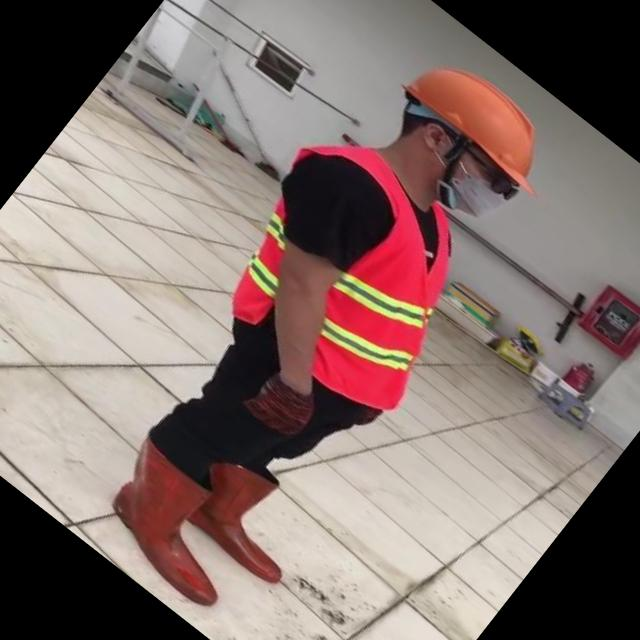hard_hat: (391, 34, 562, 188)
safety_vest: (190, 113, 512, 430)
vehicle: (17, 0, 611, 640)
work_boots: (82, 434, 272, 616), (186, 454, 326, 590)
